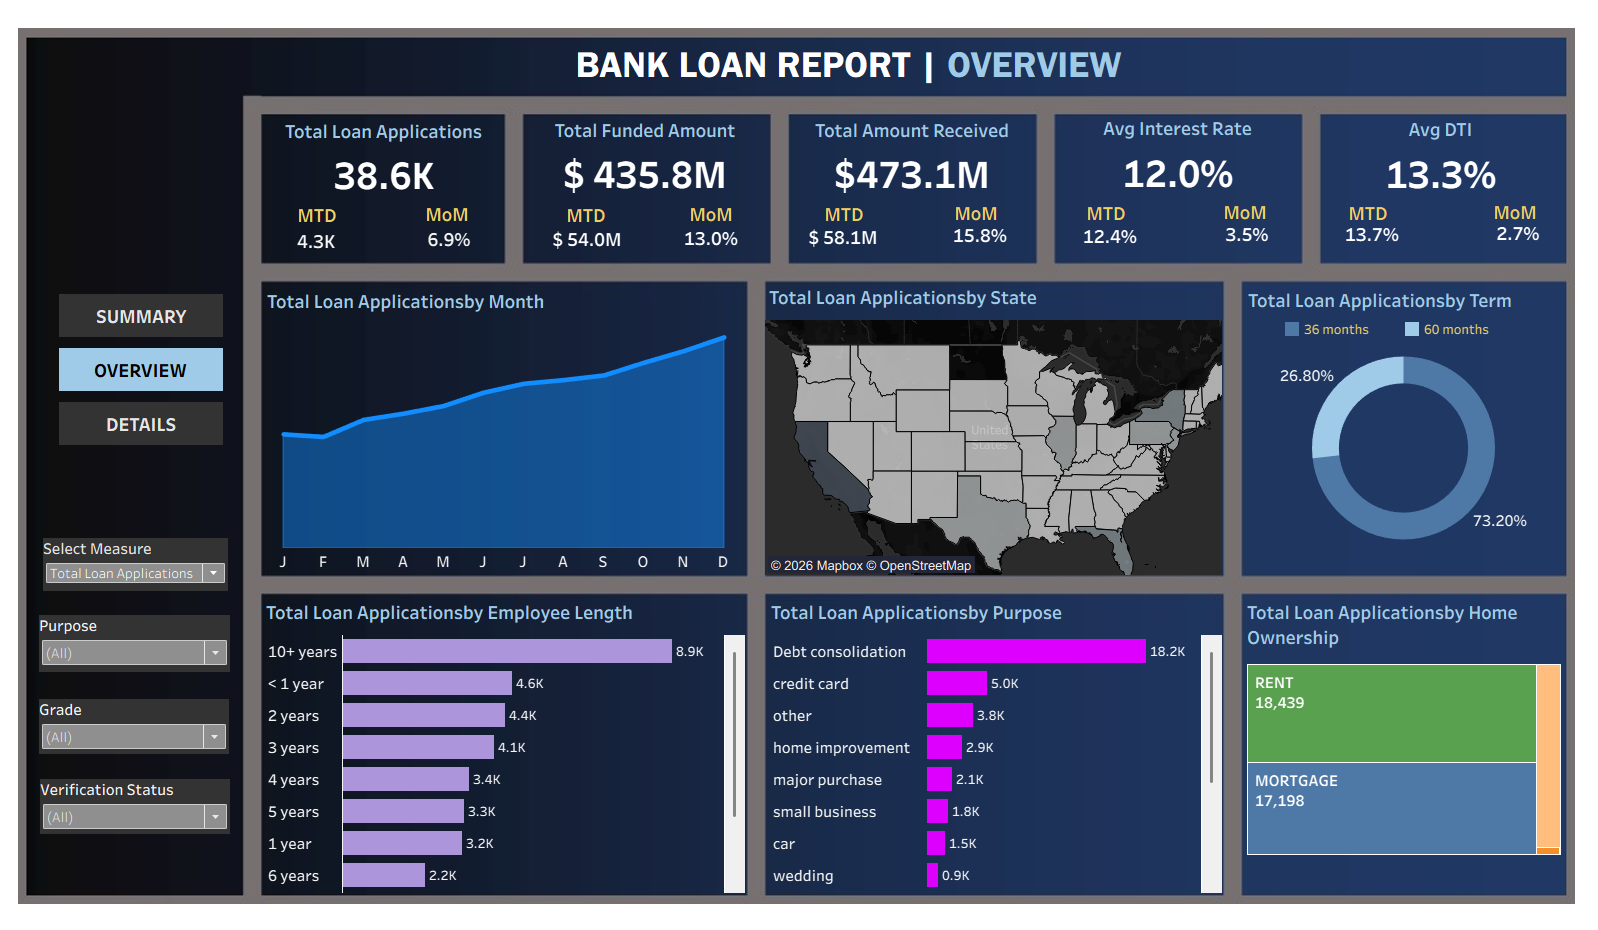

The dashboard page shown, as its layout file describes it:
{"tool":"tableau","page":{"name":"OVERVIEW","canvas":[1600,900],"ordinal":1},"visuals":[{"type":"image","param":"C:/Users/Ashutosh patil/Downloads/Tableau Background 2.jpg","box":[8,8,1584,884]},{"type":"text","box":[571,22,561,52]},{"type":"image","param":"C:/Users/ASHUTO~1/AppData/Local/Temp/TableauTemp/1ljy3j515t14ks12ctpar1f0utq3/Sh","box":[55,80,170,171]},{"type":"worksheet","title":"Avg Interest Rate","mark":"Automatic","box":[1058,95,245,81]},{"type":"worksheet","title":"Avg DTI","mark":"Automatic","box":[1321,96,245,82]},{"type":"worksheet","title":"Total Funded Amount","mark":"Automatic","box":[525,97,246,80]},{"type":"worksheet","title":"Total Amount Received","mark":"Automatic","box":[792,97,246,80]},{"type":"worksheet","title":"Total Loan Applications","mark":"Automatic","box":[267,98,239,79]},{"type":"text","box":[1223,187,50,18]},{"type":"text","box":[1493,187,50,18]},{"type":"text","box":[954,188,50,18]},{"type":"text","box":[1084,188,50,18]},{"type":"text","box":[1346,188,50,18]},{"type":"text","box":[425,189,50,18]},{"type":"text","box":[689,189,50,18]},{"type":"text","box":[822,189,50,18]},{"type":"text","box":[295,190,50,18]},{"type":"text","box":[564,190,50,18]},{"type":"worksheet","title":"MoM Avg DTI","mark":"Automatic","box":[1493,197,56,39]},{"type":"worksheet","title":"MTD Total Amount Received","mark":"Automatic","box":[805,199,81,43]},{"type":"worksheet","title":"MoM Total Amount Received","mark":"Automatic","box":[947,200,72,38]},{"type":"worksheet","title":"MTD Avg DTI","mark":"Automatic","box":[1341,200,68,35]},{"type":"worksheet","title":"MoM Avg Interest Rate","mark":"Automatic","box":[1215,201,69,34]},{"type":"worksheet","title":"MTD Total Funded Amount","mark":"Automatic","box":[545,202,90,42]},{"type":"worksheet","title":"MoM Total Fubded Amount","mark":"Automatic","box":[674,202,79,40]},{"type":"worksheet","title":"MTD Avg Interest Rate","mark":"Automatic","box":[1073,202,79,36]},{"type":"worksheet","title":"MoM Total Loan Applications","mark":"Automatic","box":[422,205,60,36]},{"type":"worksheet","title":"MTD Total Loan Applications","mark":"Automatic","box":[293,206,52,38]},{"type":"worksheet","title":"State","mark":"Multipolygon","box":[768,264,457,295]},{"type":"worksheet","title":"Term","mark":"Pie","rows":["Calculation_0288399527890979","Calculation_0288399527997479"],"box":[1247,267,319,290]},{"type":"worksheet","title":"Month","mark":"Area","rows":["Calculation_0288399515435041","Calculation_0288399515435041"],"cols":["issue_date"],"box":[266,268,481,289]},{"type":"dashboard-object","box":[62,278,164,43]},{"type":"legend","title":"Term","param":"[federated.1rtcsyt0h957pv0znsryh1tsff6r].[none:term:nk]","box":[1285,303,245,24]},{"type":"dashboard-object","box":[62,332,164,43]},{"type":"dashboard-object","box":[62,386,164,43]},{"type":"parameter","param":"[Parameters].[Parameter 0288399514267680]","box":[46,522,185,53]},{"type":"worksheet","title":"Emp Length","mark":"Automatic","rows":["emp_length"],"cols":["Calculation_0288399515435041"],"box":[265,579,483,298]},{"type":"worksheet","title":"Purpose","mark":"Automatic","rows":["purpose"],"cols":["Calculation_0288399515435041"],"box":[770,579,455,298]},{"type":"worksheet","title":"Home Own","mark":"Automatic","box":[1246,579,321,300]},{"type":"filter","title":"Avg DTI","param":"[federated.1rtcsyt0h957pv0znsryh1tsff6r].[none:purpose:nk]","box":[42,599,191,57]},{"type":"filter","title":"Avg DTI","param":"[federated.1rtcsyt0h957pv0znsryh1tsff6r].[none:grade:nk]","box":[42,683,190,55]},{"type":"filter","title":"Avg DTI","param":"[federated.1rtcsyt0h957pv0znsryh1tsff6r].[none:verification_status:nk]","box":[43,763,190,55]}]}

Visuals, with their boxes on the page's 1600x900 design canvas (x1, y1, x2, y2). These are canvas units, not pixel positions in the 1598x930 screenshot, which may show the page scaled, cropped or inside an application window:
image: x1=8, y1=8, x2=1592, y2=892
text: x1=571, y1=22, x2=1132, y2=74
image: x1=55, y1=80, x2=225, y2=251
"Avg Interest Rate" worksheet: x1=1058, y1=95, x2=1303, y2=176
"Avg DTI" worksheet: x1=1321, y1=96, x2=1566, y2=178
"Total Funded Amount" worksheet: x1=525, y1=97, x2=771, y2=177
"Total Amount Received" worksheet: x1=792, y1=97, x2=1038, y2=177
"Total Loan Applications" worksheet: x1=267, y1=98, x2=506, y2=177
text: x1=1223, y1=187, x2=1273, y2=205
text: x1=1493, y1=187, x2=1543, y2=205
text: x1=954, y1=188, x2=1004, y2=206
text: x1=1084, y1=188, x2=1134, y2=206
text: x1=1346, y1=188, x2=1396, y2=206
text: x1=425, y1=189, x2=475, y2=207
text: x1=689, y1=189, x2=739, y2=207
text: x1=822, y1=189, x2=872, y2=207
text: x1=295, y1=190, x2=345, y2=208
text: x1=564, y1=190, x2=614, y2=208
"MoM Avg DTI" worksheet: x1=1493, y1=197, x2=1549, y2=236
"MTD Total Amount Received" worksheet: x1=805, y1=199, x2=886, y2=242
"MoM Total Amount Received" worksheet: x1=947, y1=200, x2=1019, y2=238
"MTD Avg DTI" worksheet: x1=1341, y1=200, x2=1409, y2=235
"MoM Avg Interest Rate" worksheet: x1=1215, y1=201, x2=1284, y2=235
"MTD Total Funded Amount" worksheet: x1=545, y1=202, x2=635, y2=244
"MoM Total Fubded Amount" worksheet: x1=674, y1=202, x2=753, y2=242
"MTD Avg Interest Rate" worksheet: x1=1073, y1=202, x2=1152, y2=238
"MoM Total Loan Applications" worksheet: x1=422, y1=205, x2=482, y2=241
"MTD Total Loan Applications" worksheet: x1=293, y1=206, x2=345, y2=244
"State" worksheet (Multipolygon marks): x1=768, y1=264, x2=1225, y2=559
"Term" worksheet (Pie marks): x1=1247, y1=267, x2=1566, y2=557
"Month" worksheet (Area marks): x1=266, y1=268, x2=747, y2=557
dashboard-object: x1=62, y1=278, x2=226, y2=321
"Term" legend: x1=1285, y1=303, x2=1530, y2=327
dashboard-object: x1=62, y1=332, x2=226, y2=375
dashboard-object: x1=62, y1=386, x2=226, y2=429
parameter: x1=46, y1=522, x2=231, y2=575
"Emp Length" worksheet: x1=265, y1=579, x2=748, y2=877
"Purpose" worksheet: x1=770, y1=579, x2=1225, y2=877
"Home Own" worksheet: x1=1246, y1=579, x2=1567, y2=879
"Avg DTI" filter: x1=42, y1=599, x2=233, y2=656
"Avg DTI" filter: x1=42, y1=683, x2=232, y2=738
"Avg DTI" filter: x1=43, y1=763, x2=233, y2=818
